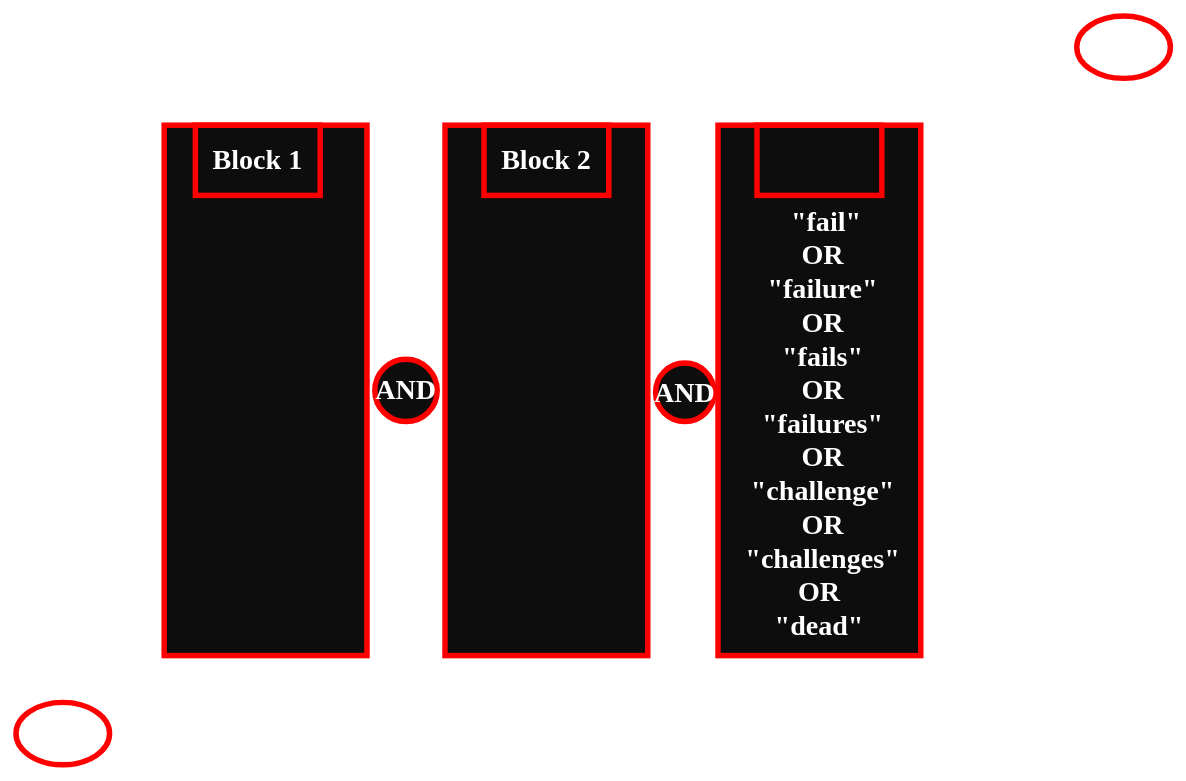
Some shapes in this 1186 by 781 pixel diagram are drawn without their labels. Here are the shapes that lost their labels. From the top down, the box of each, then its label:
(754, 122, 884, 198): Block 3
(161, 122, 369, 658): "hardword"
(442, 122, 650, 658): "startup” OR “start−up” OR "startups"
